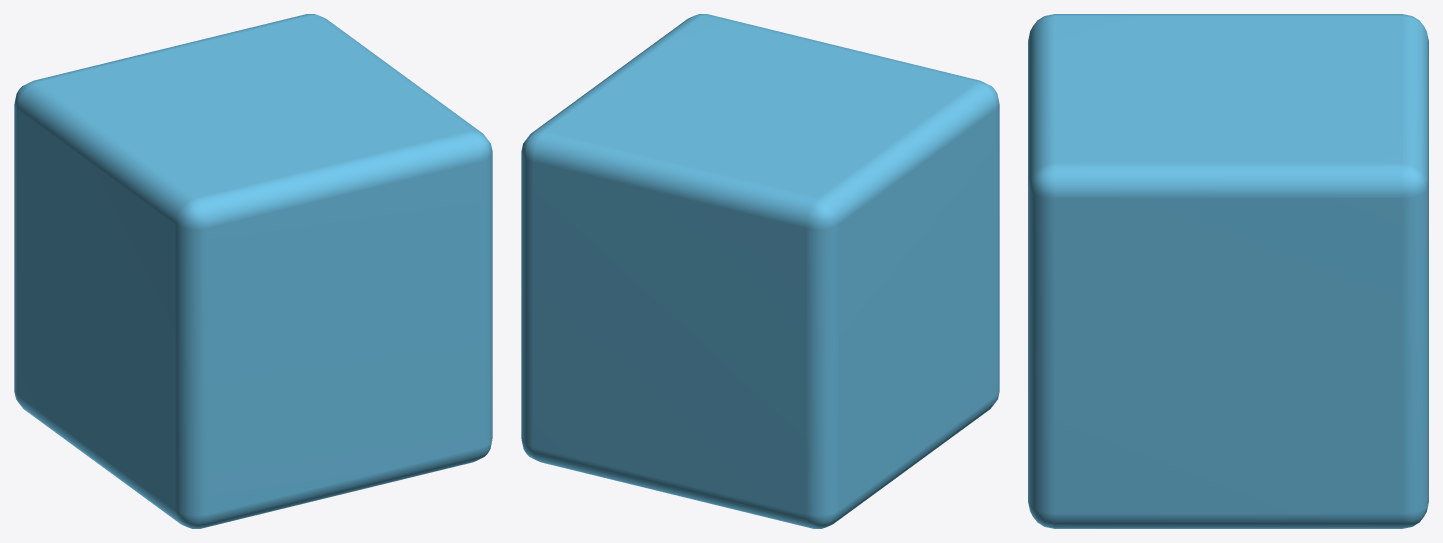
3 views of the same model, side by side, from view 1: azimuth 30°, elevation 25°; view 2: azimuth 150°, elevation 25°; view 3: azimuth 270°, elevation 25° (orthographic). The views are drawn at different scales.
Visible parts, largest first — view 1: Hero; view 2: Hero; view 3: Hero.
Boxes of the visible parts, x1=… form: Hero: x1=14, y1=14, x2=492, y2=528; Hero: x1=521, y1=14, x2=999, y2=528; Hero: x1=1028, y1=14, x2=1428, y2=528.
Size of what is drawn, in the model's own units: 1.8 by 1.8 by 1.8.
